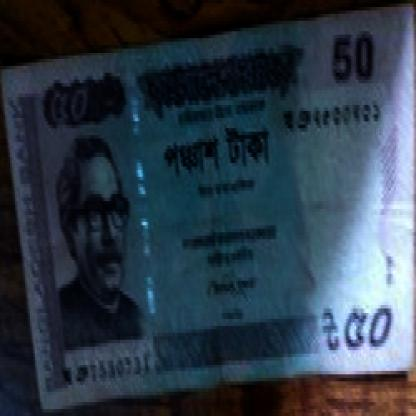Fifty taka: (316, 298, 398, 375), (35, 76, 95, 132)
